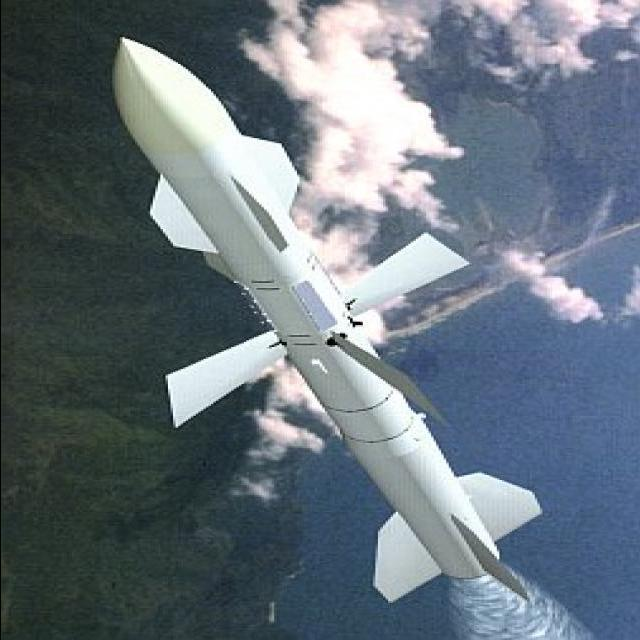missile: (110, 32, 549, 612)
